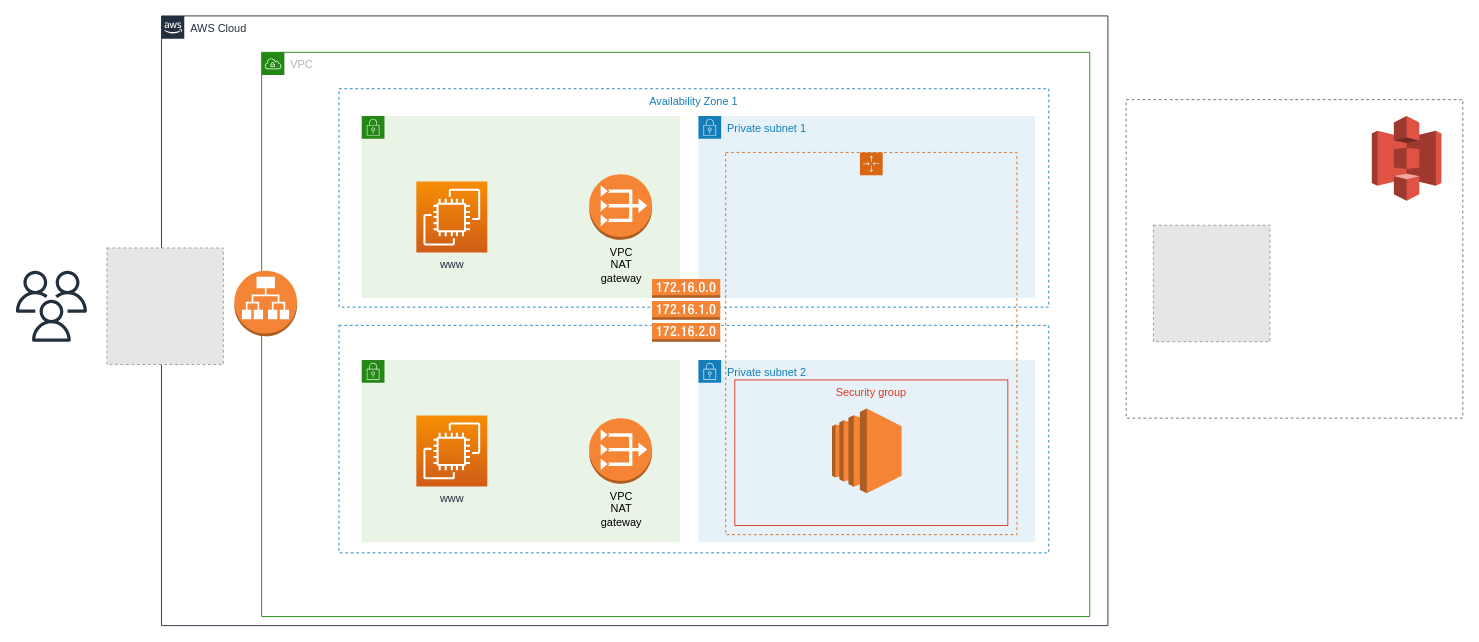
The diagram is 1479 pixels wide and 642 high, and some of its shapes have lost their labels. Grey dashed boxes stand in for pictures. Here are the shapes that lost their labels. From the top down, the box of each, then its label:
(361, 115, 680, 298): Public subnet 1
(725, 152, 1017, 535): Auto Scaling group
(361, 359, 680, 542): Public subnet 2
(338, 324, 1049, 553): Availability Zone 2
(831, 408, 902, 493): EC2
